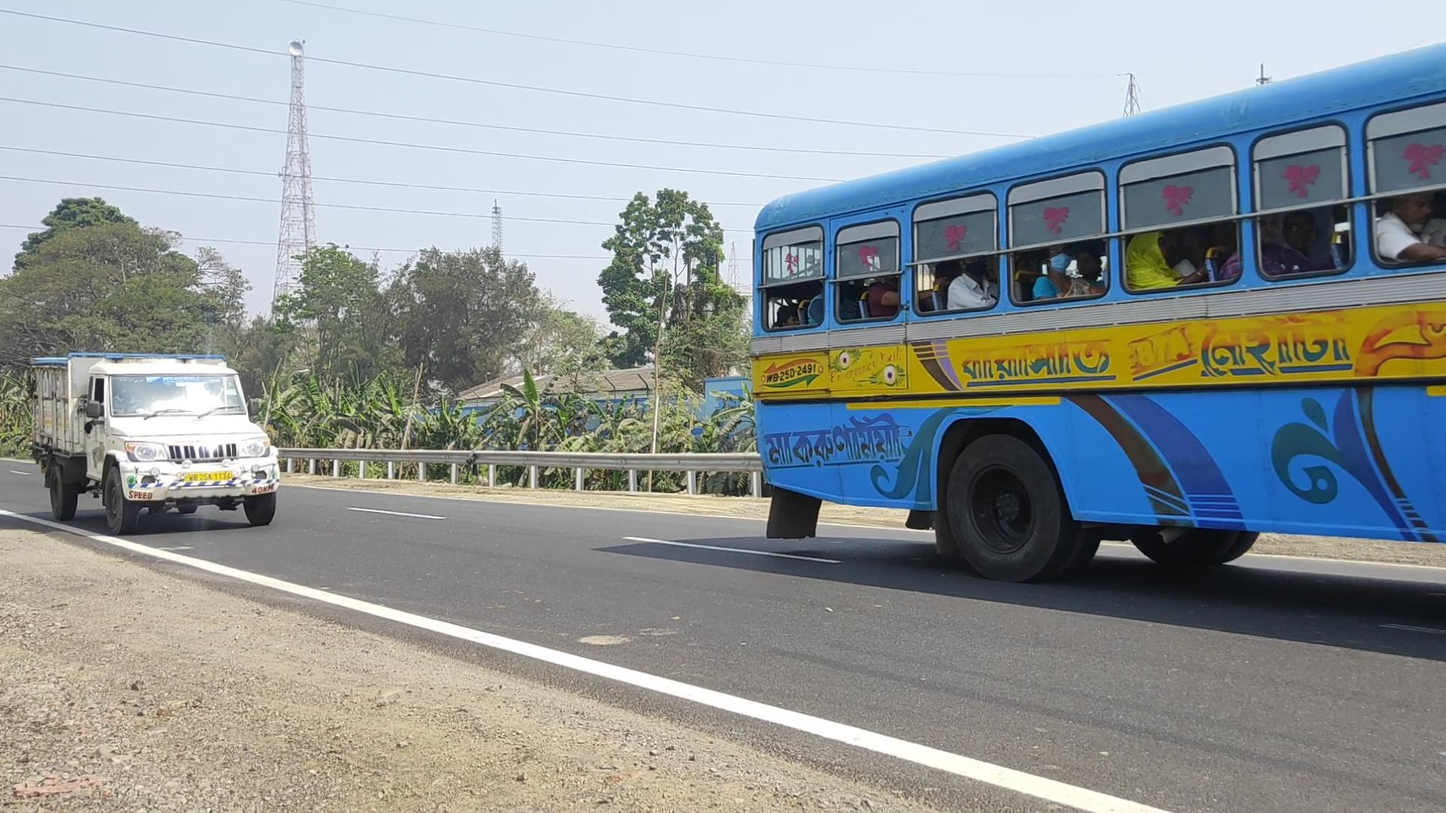Bus: (750, 39, 1446, 587)
van: (29, 348, 280, 537)
